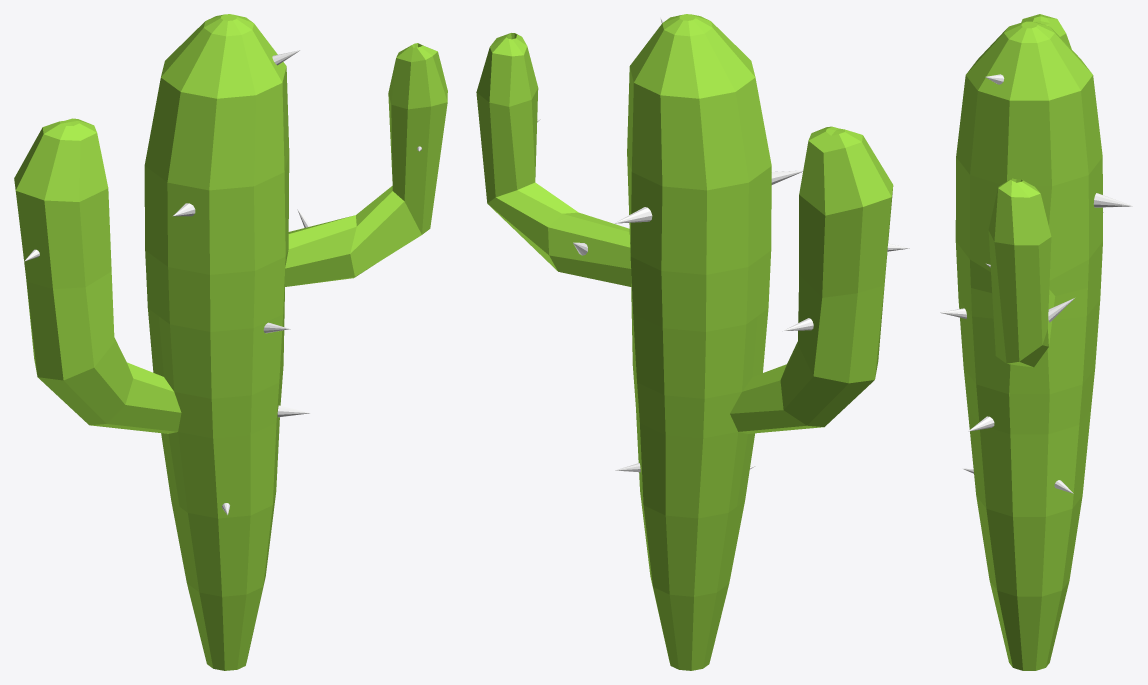
Rendered from needlecactus.fbx.
The picture shows the model from 3 angles, left to right: view 1: azimuth 30°, elevation 25°; view 2: azimuth 150°, elevation 25°; view 3: azimuth 270°, elevation 25°; orthographic projection.
Parts seen in each view (by area): view 1: Cylinder.005; view 2: Cylinder.005; view 3: Cylinder.005.
Part boxes in pixels (left/top/right/bottom): Cylinder.005: left=14, top=14, right=447, bottom=670; Cylinder.005: left=476, top=14, right=909, bottom=670; Cylinder.005: left=940, top=14, right=1132, bottom=670.
Size of the model in its own units: 452 by 654 by 181.
